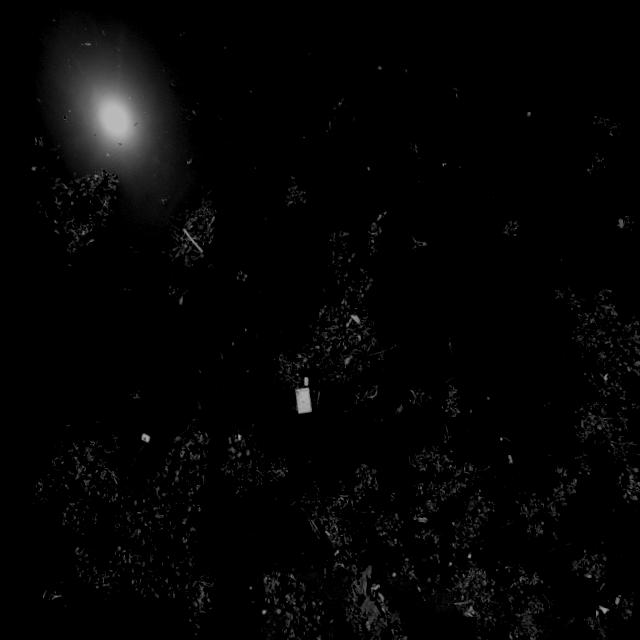plastic: (286, 372, 313, 410), (581, 588, 597, 604), (613, 195, 625, 214), (134, 425, 148, 441), (339, 304, 352, 321), (593, 585, 608, 599), (596, 352, 609, 368), (411, 501, 427, 514), (359, 147, 371, 164), (608, 572, 618, 589), (257, 632, 278, 640), (317, 516, 328, 530), (409, 569, 419, 583), (326, 535, 336, 549), (352, 320, 361, 334), (254, 598, 263, 611), (230, 423, 239, 435), (461, 536, 470, 548), (299, 365, 307, 378), (463, 392, 472, 402), (385, 558, 392, 568)
